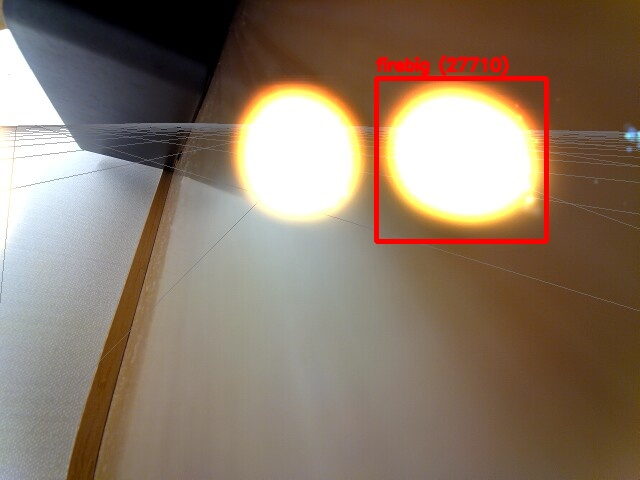firebig: (376, 78, 546, 241)
